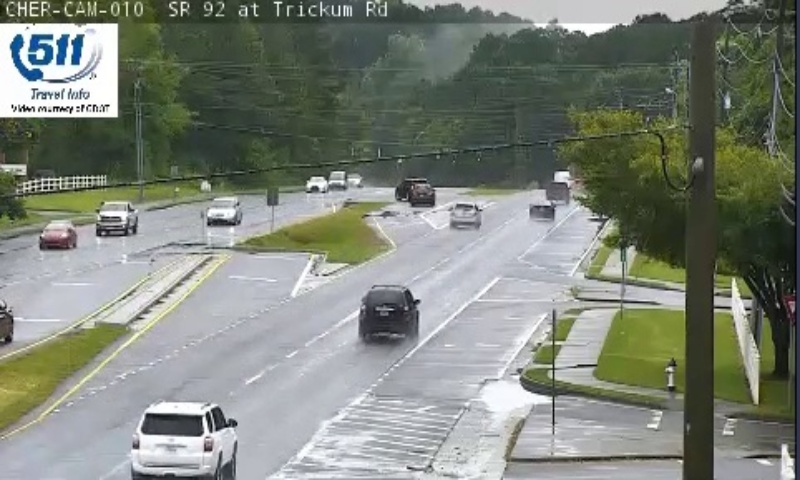car: (131, 402, 237, 480), (360, 286, 418, 335), (449, 202, 481, 227), (528, 200, 555, 220)
